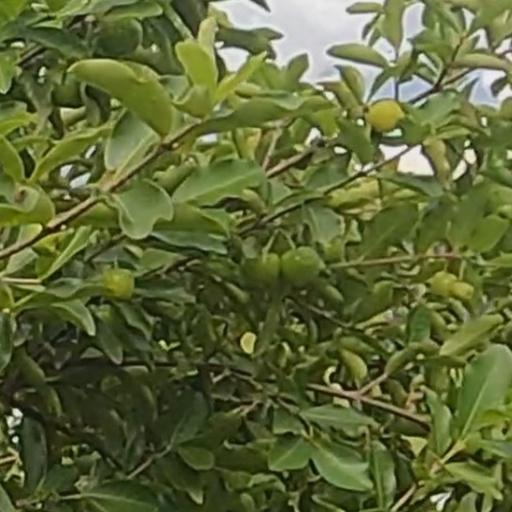acerola: (286, 248, 317, 286), (105, 269, 135, 301), (248, 255, 279, 283)
